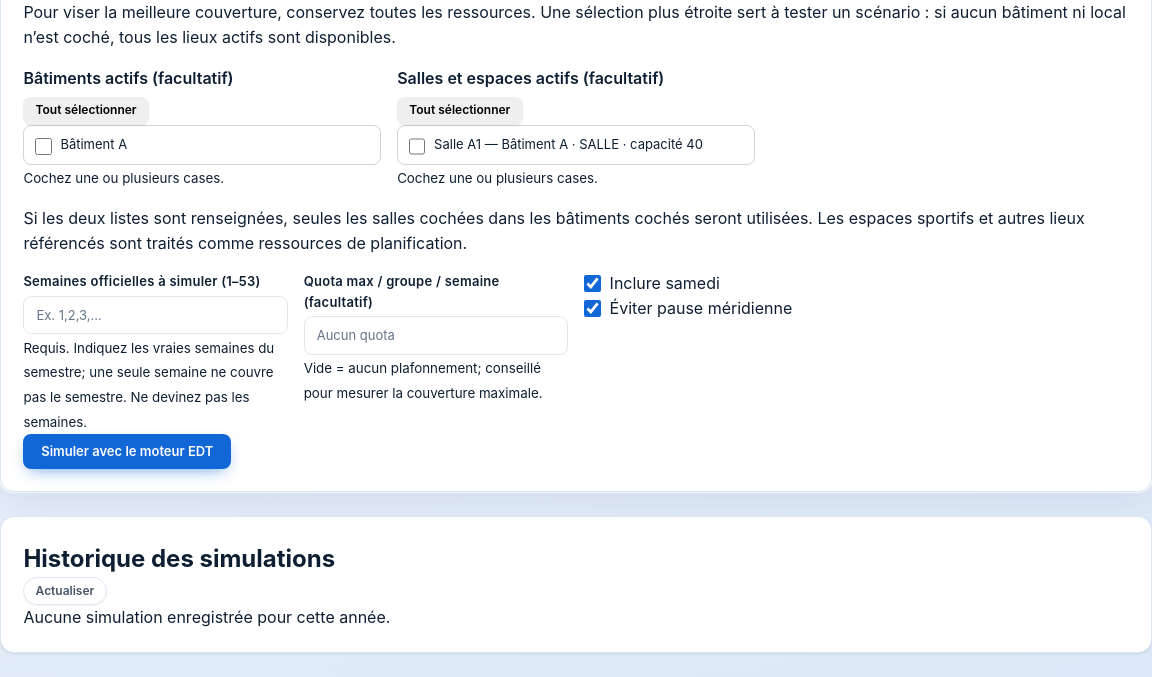
Test case: GET INJS — simulation non destructive › refuse de simuler tant que le périmètre requis n’est pas sélectionné
(page scrolled)
Click the button "Simuler avec le moteur EDT" at (127, 452), box x1=23 y1=434 x2=231 y2=469
(page scrolled)
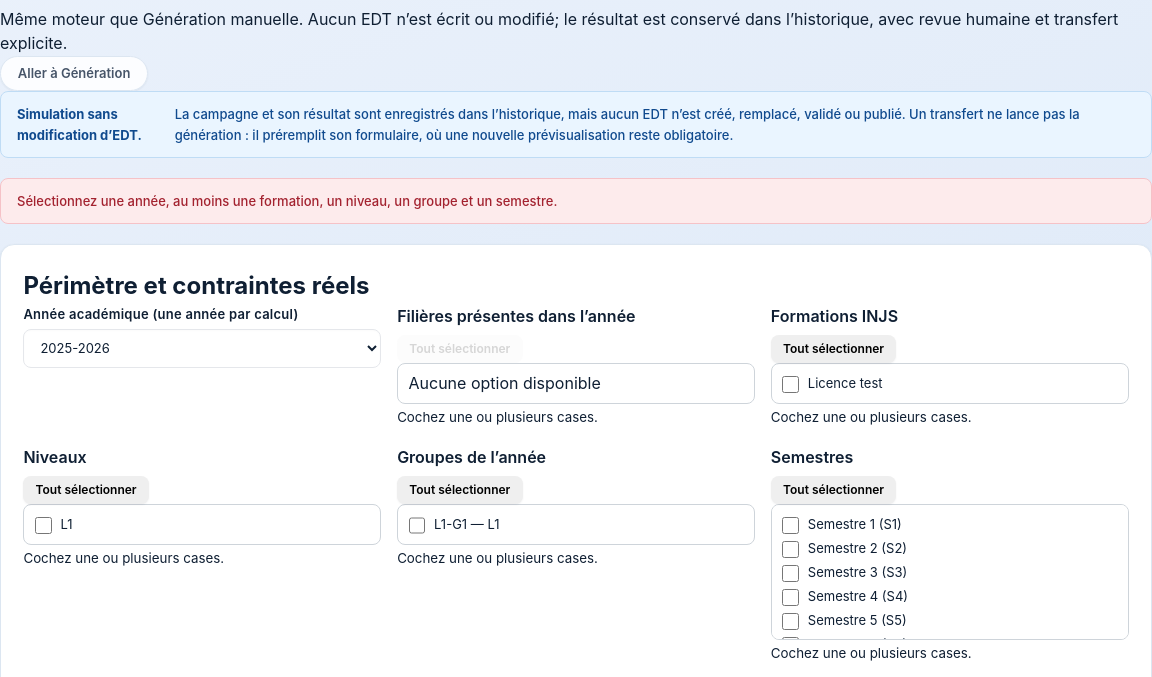
expect the message shows "Sélectionnez une année, au moins une formation": met, box x1=17 y1=193 x2=557 y2=209
